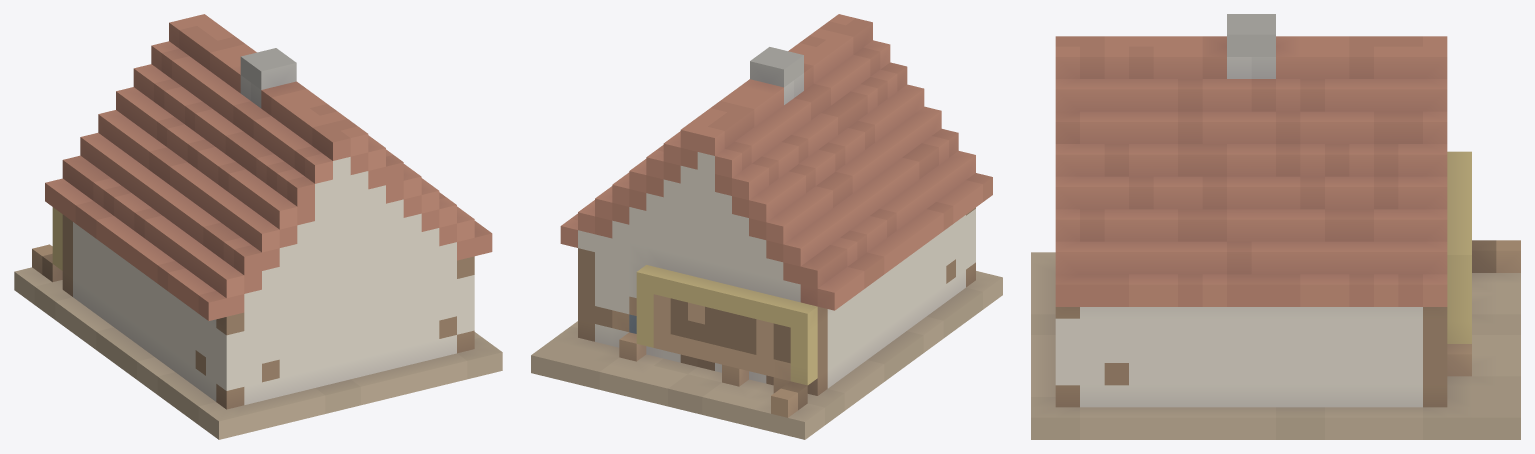
The model's file is bakery.lite.glb.
The picture shows the model from 3 angles, left to right: view 1: azimuth 30°, elevation 25°; view 2: azimuth 150°, elevation 25°; view 3: azimuth 270°, elevation 25°; orthographic projection. The views are drawn at different scales.
Visible parts, largest first — view 1: bakery; view 2: bakery; view 3: bakery.
Part boxes in pixels (left/top/right/bottom): bakery: left=14, top=14, right=502, bottom=439; bakery: left=531, top=14, right=1002, bottom=439; bakery: left=1031, top=14, right=1520, bottom=439.
Size of the model in its own units: 4 by 3.75 by 5.
